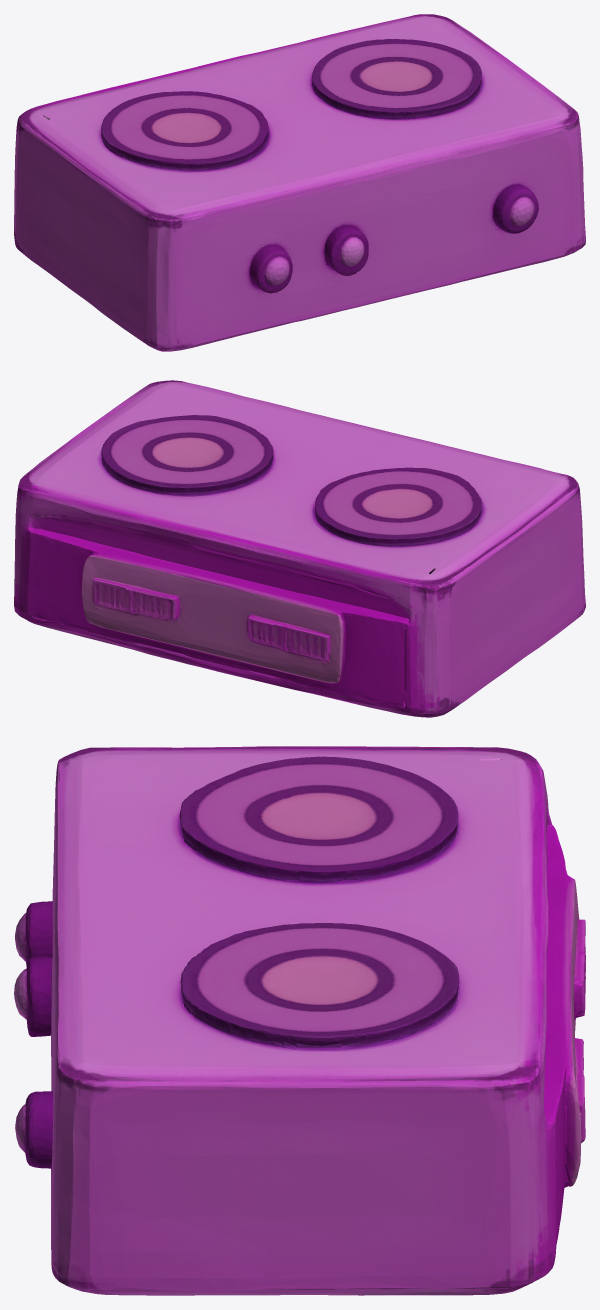
The picture shows the model from 3 angles, top to bottom: view 1: azimuth 30°, elevation 25°; view 2: azimuth 150°, elevation 25°; view 3: azimuth 270°, elevation 25°; orthographic projection. The views are drawn at different scales.
Parts seen in each view (by area): view 1: world; view 2: world; view 3: world.
Part boxes in pixels (x1,y1,x2,y2): world: [14, 14, 585, 351]; world: [14, 380, 585, 717]; world: [14, 746, 585, 1295].
Bounding box in the file's own units: 99.2 × 32.26 × 69.95.
1 material, 1 textured.
